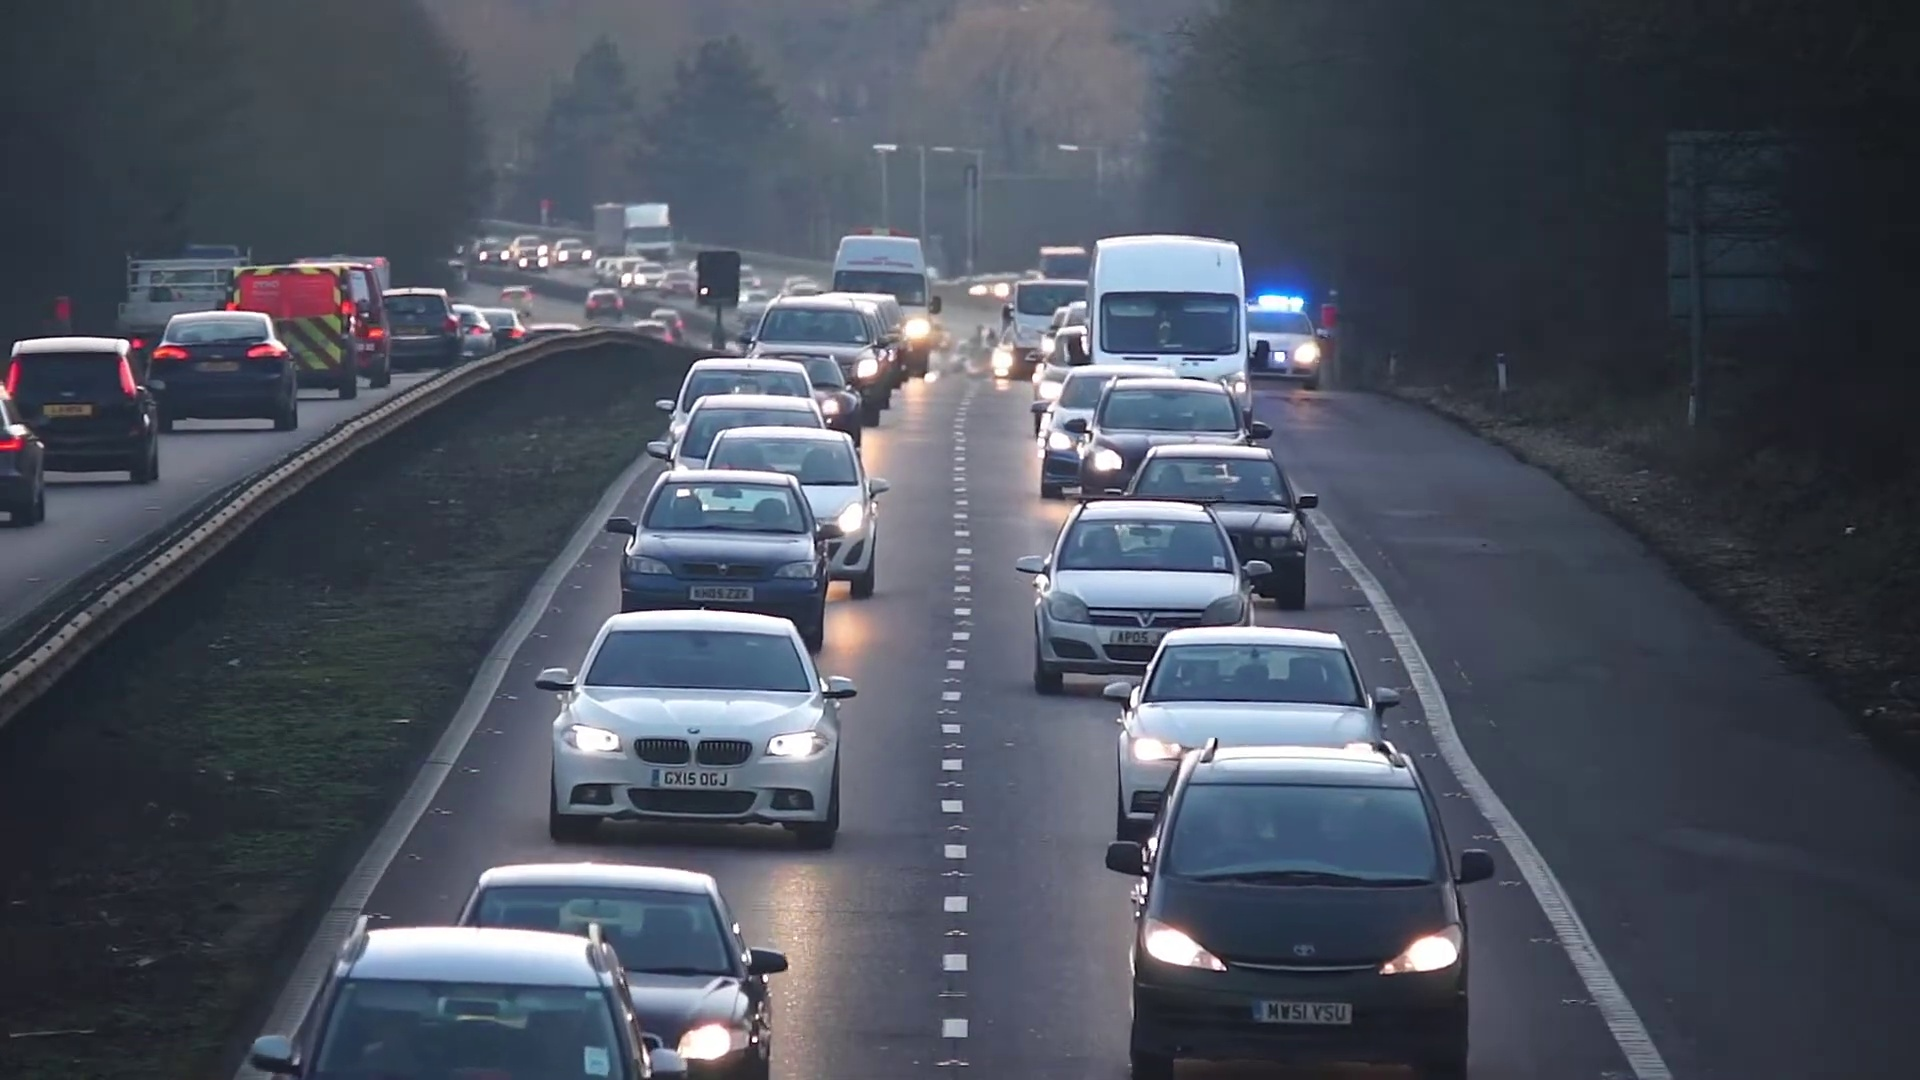license_plate: (1256, 999, 1356, 1026), (647, 768, 735, 795), (691, 582, 759, 604), (1107, 627, 1155, 648)
